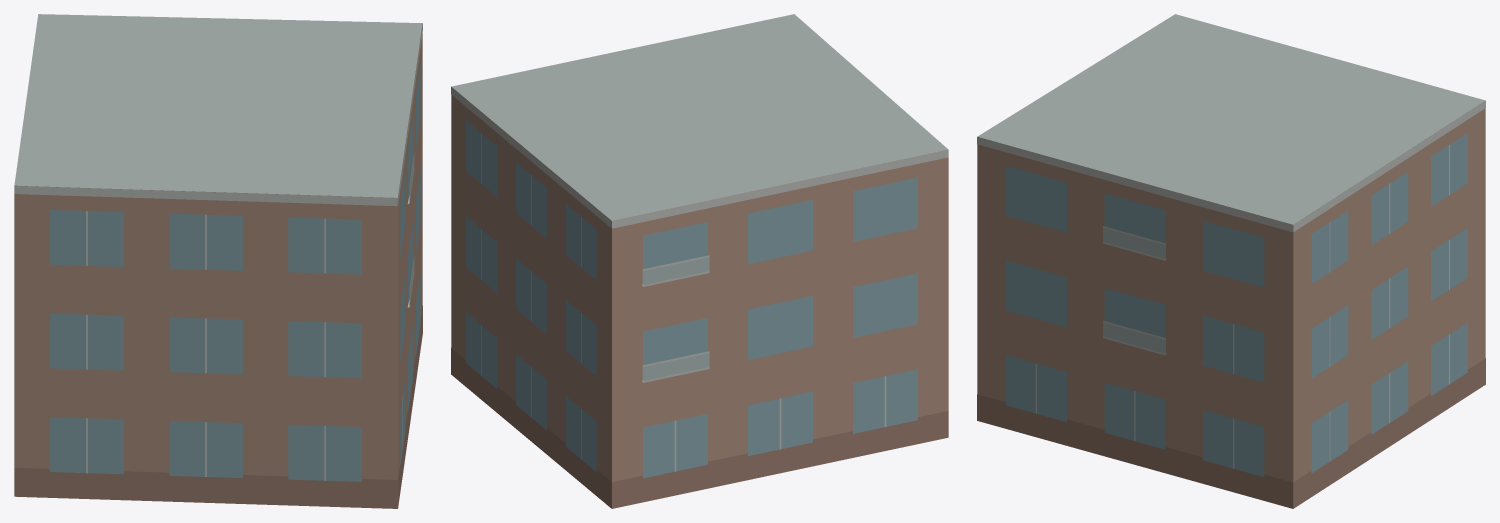
The model's file is survey-upis-32668597.glb.
3 views of the same model, side by side, from view 1: azimuth 30°, elevation 25°; view 2: azimuth 150°, elevation 25°; view 3: azimuth 270°, elevation 25° (orthographic). The views are drawn at different scales.
Parts seen in each view (by area): view 1: survey-upis-32668597.tmp; view 2: survey-upis-32668597.tmp; view 3: survey-upis-32668597.tmp.
Part boxes in pixels (<box>): survey-upis-32668597.tmp: <box>14,14,422,508</box>; survey-upis-32668597.tmp: <box>451,14,948,508</box>; survey-upis-32668597.tmp: <box>977,14,1485,508</box>.
Size of the model in its own units: 14.49 by 9.1 by 14.77.
